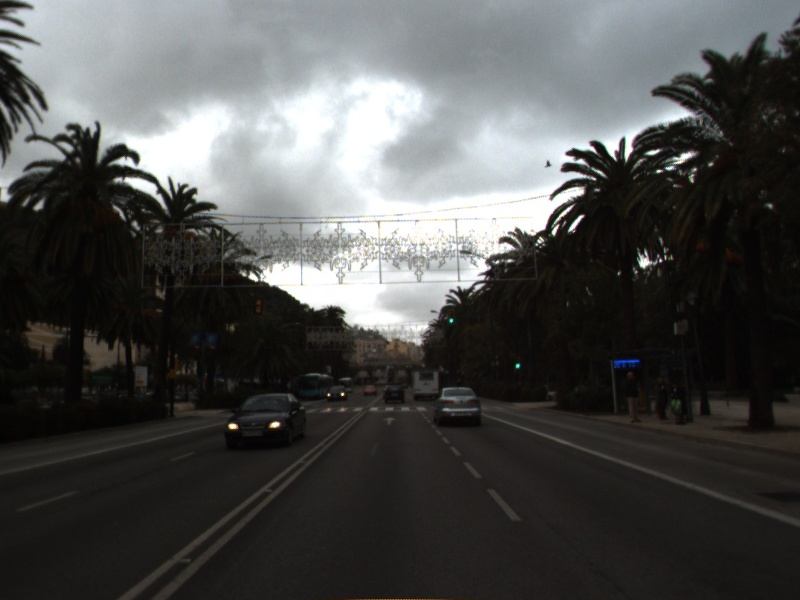STRAIGHT: (379, 415, 399, 427)
